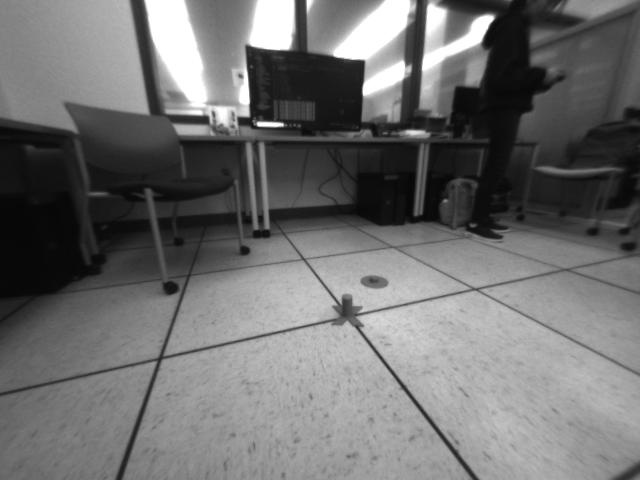X: (331, 293, 367, 329)
